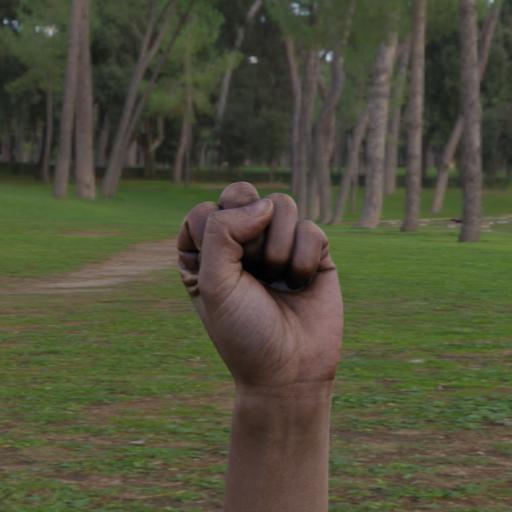S: (161, 178, 364, 485)
